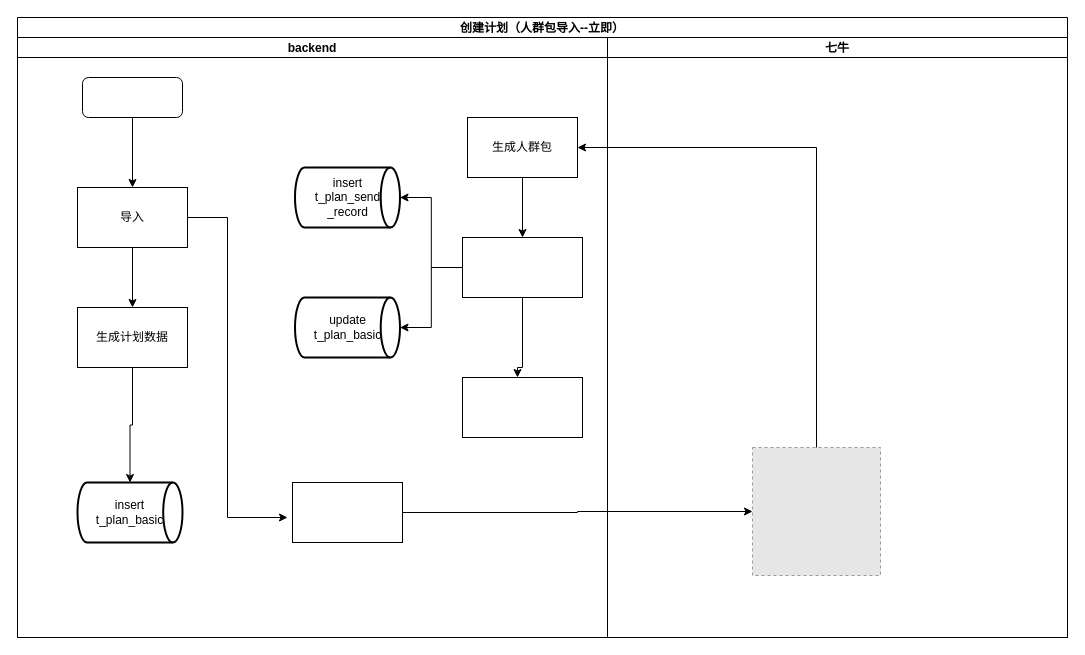
The diagram is 1085 pixels wide and 655 high, and some of its shapes have lost their labels. Grey dashed boxes stand in for pictures. Each missing label, with the centre of its shape:
upload: (x=347, y=512)
创建计划: (x=132, y=97)
更新计划&生成推送记录: (x=522, y=267)
调用third服务: (x=522, y=407)
